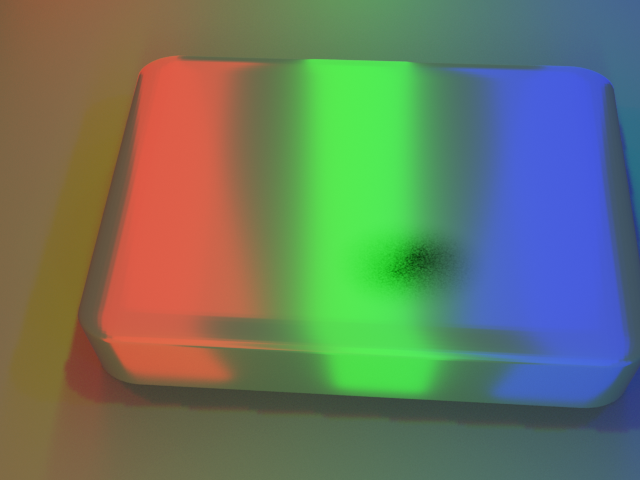stain: (314, 202, 540, 335)
